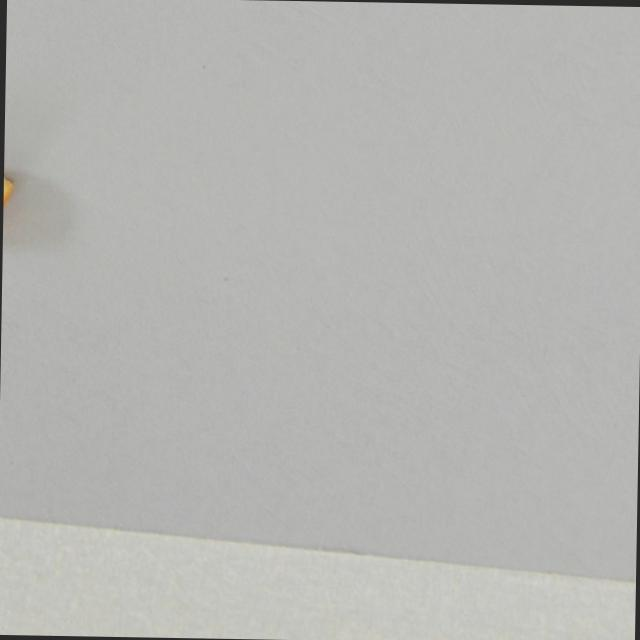punto_negro: (1, 163, 17, 257)
